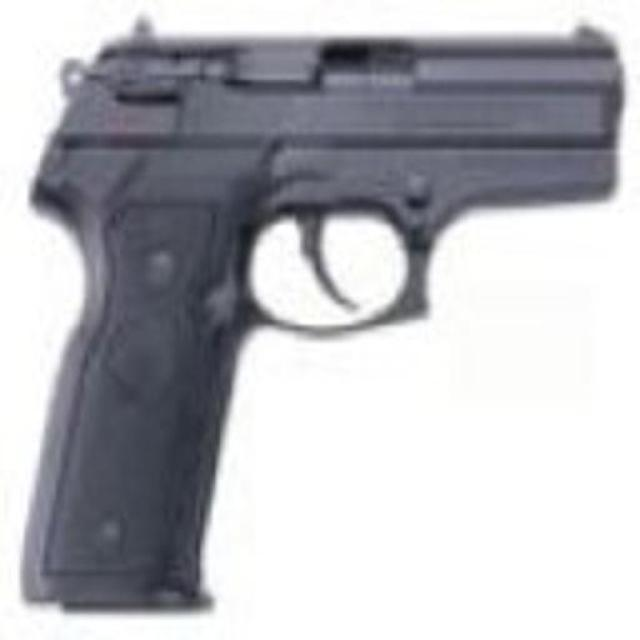pistol: (20, 15, 624, 612)
